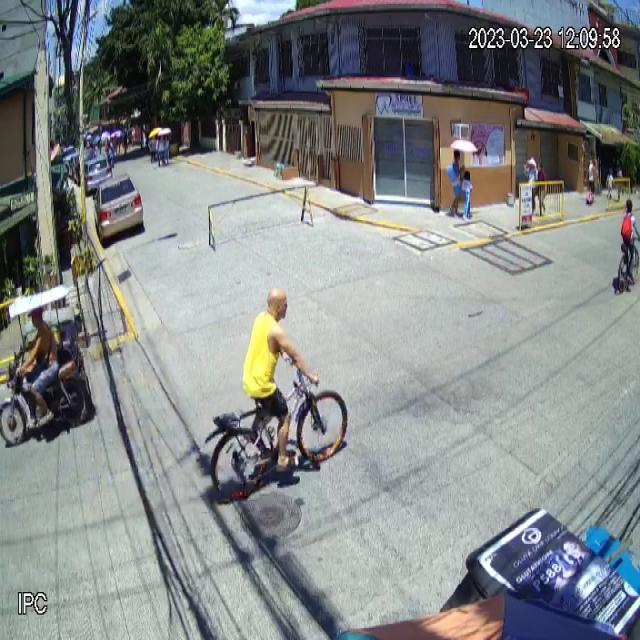Tricycle: (0, 286, 94, 446)
